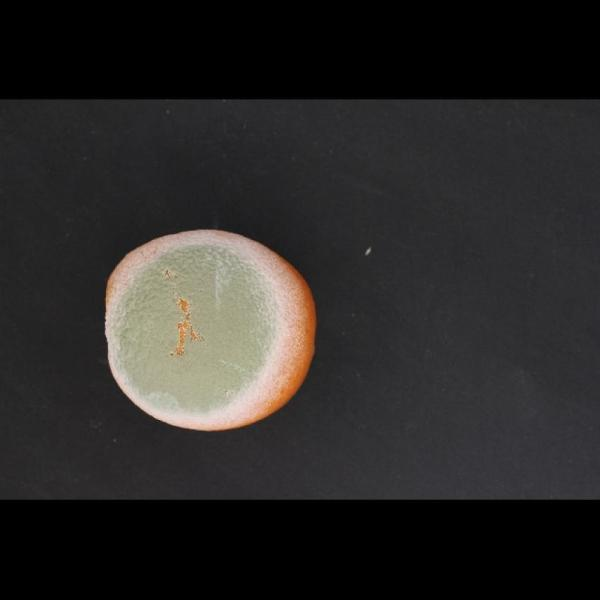Moho verde: (89, 219, 337, 434)
